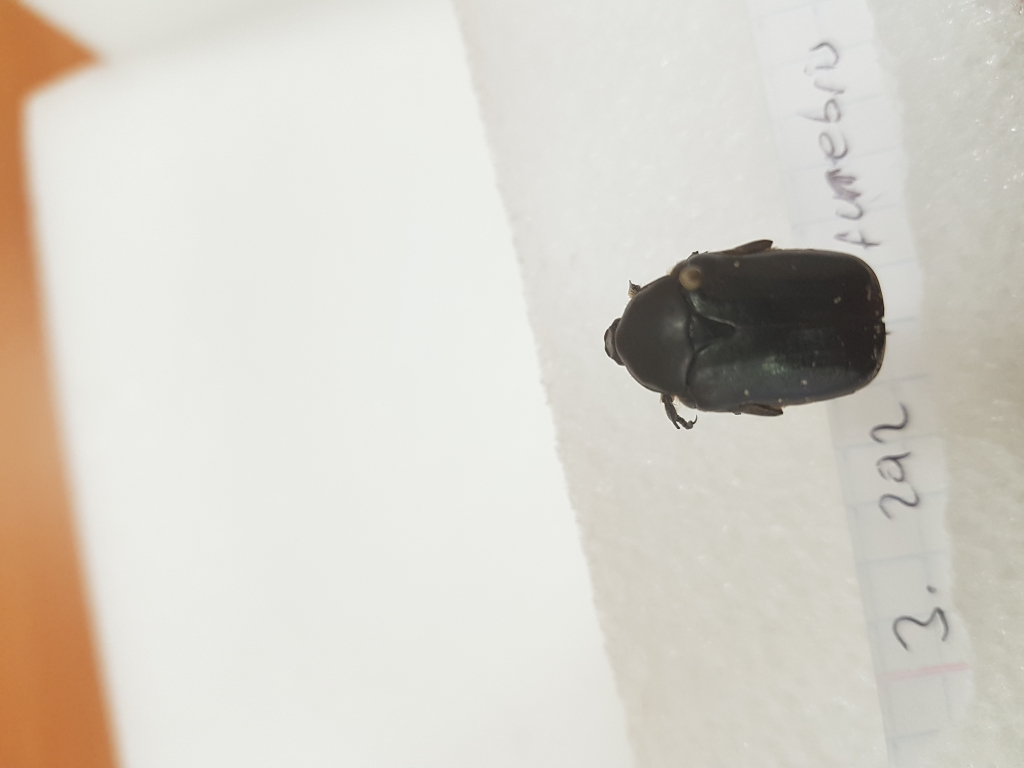Protaetia_funebris: (599, 225, 888, 432)
